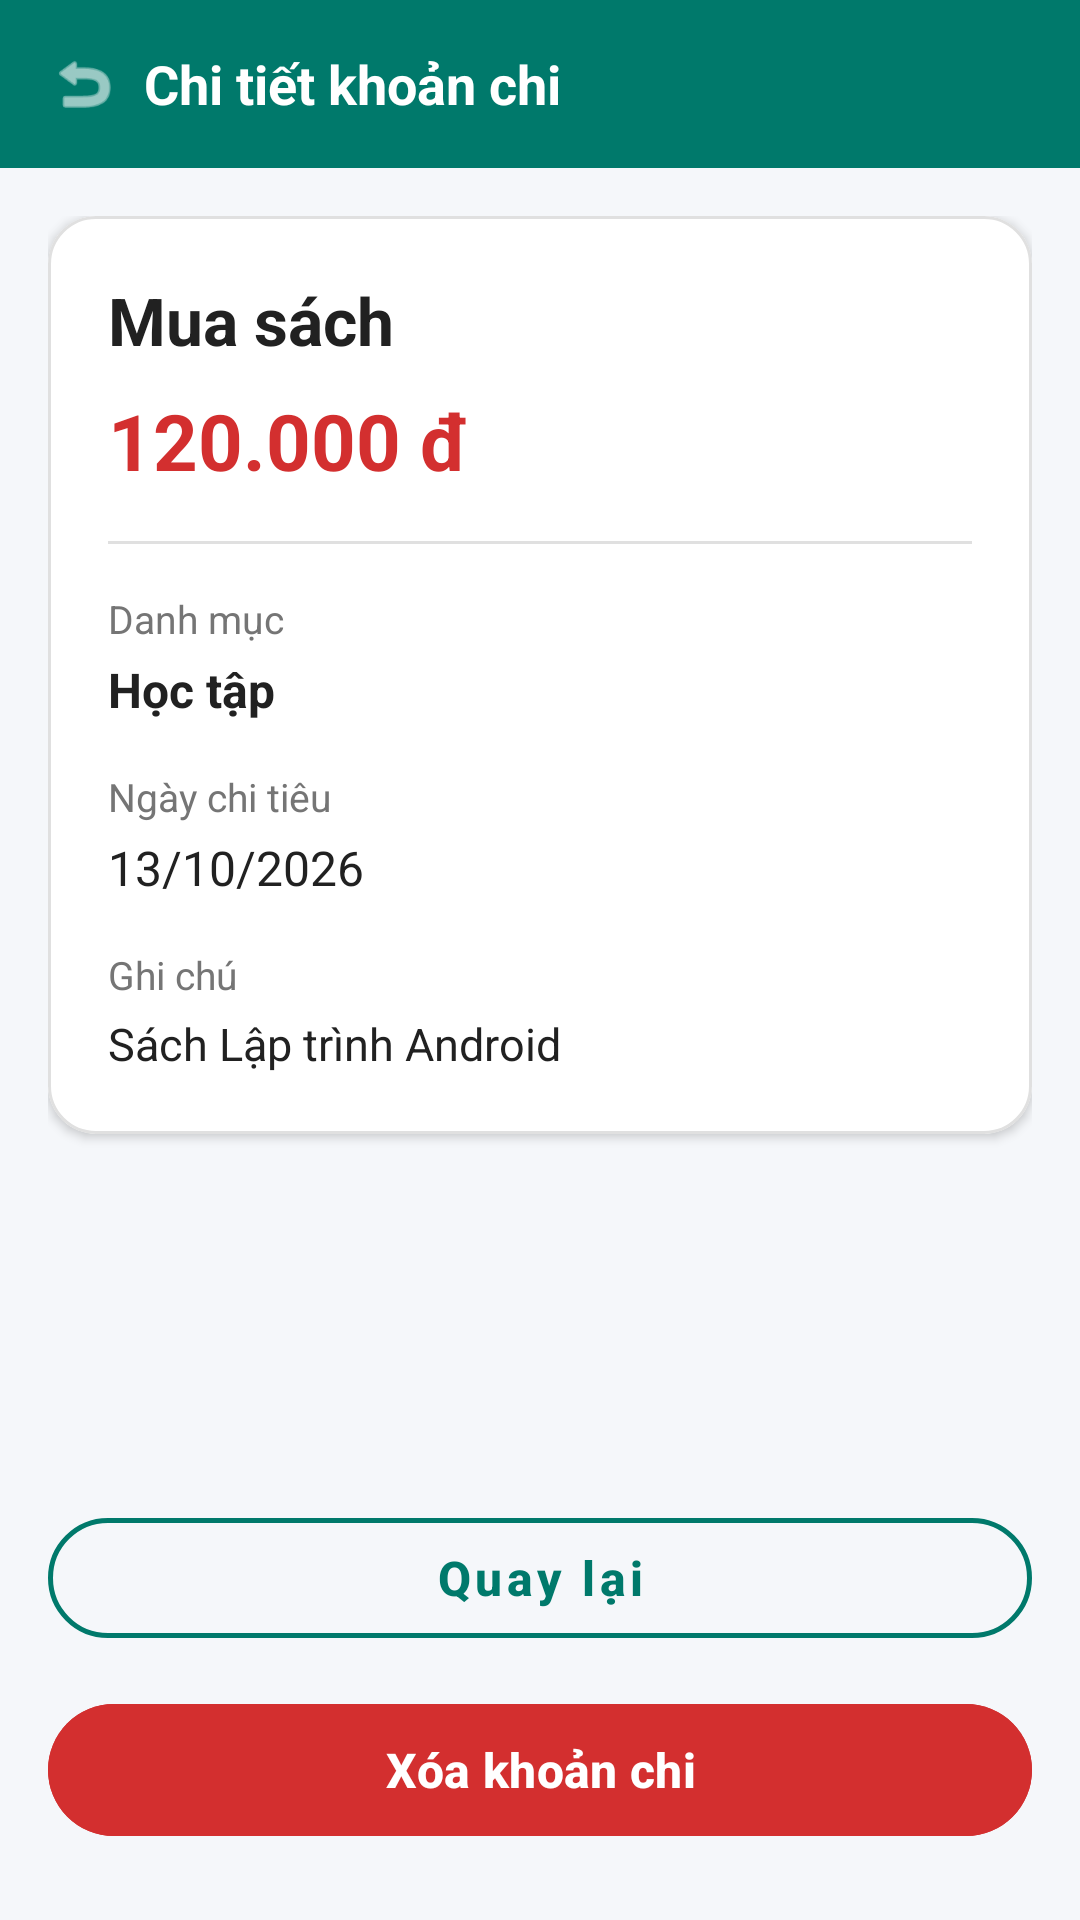

Locate icon controls on the screen. Image size 1080 x 1920, boxes as (x1, y1, x2, y2).
Quay lại: (59, 61, 111, 108)
